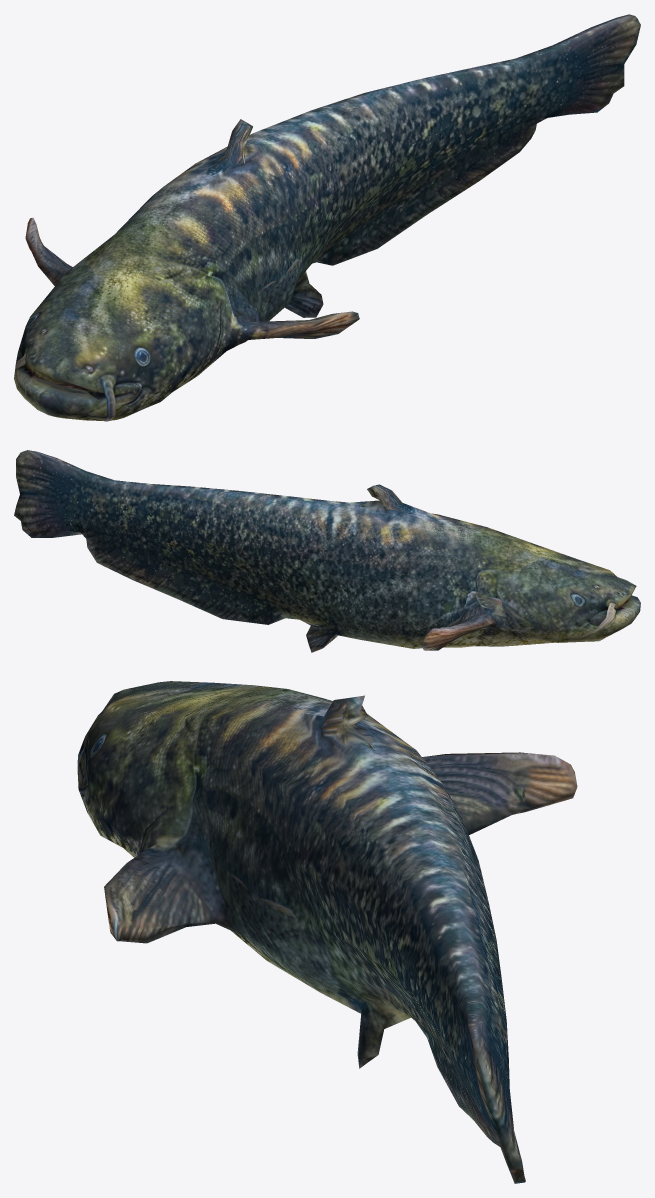
File: megi.glb
3 views of the same model, one above another, from view 1: azimuth 30°, elevation 25°; view 2: azimuth 150°, elevation 25°; view 3: azimuth 270°, elevation 25° (orthographic). The views are drawn at different scales.
Parts seen in each view (by area): view 1: tripo_node_0be4aff3; view 2: tripo_node_0be4aff3; view 3: tripo_node_0be4aff3.
Part boxes in pixels (x1,y1,x2,y2): tripo_node_0be4aff3: (14,14,640,421); tripo_node_0be4aff3: (14,450,640,652); tripo_node_0be4aff3: (77,681,577,1183).
Size of the model in its own units: 88.57 by 25.19 by 35.67.
Materials: 1 (1 with a texture image).
